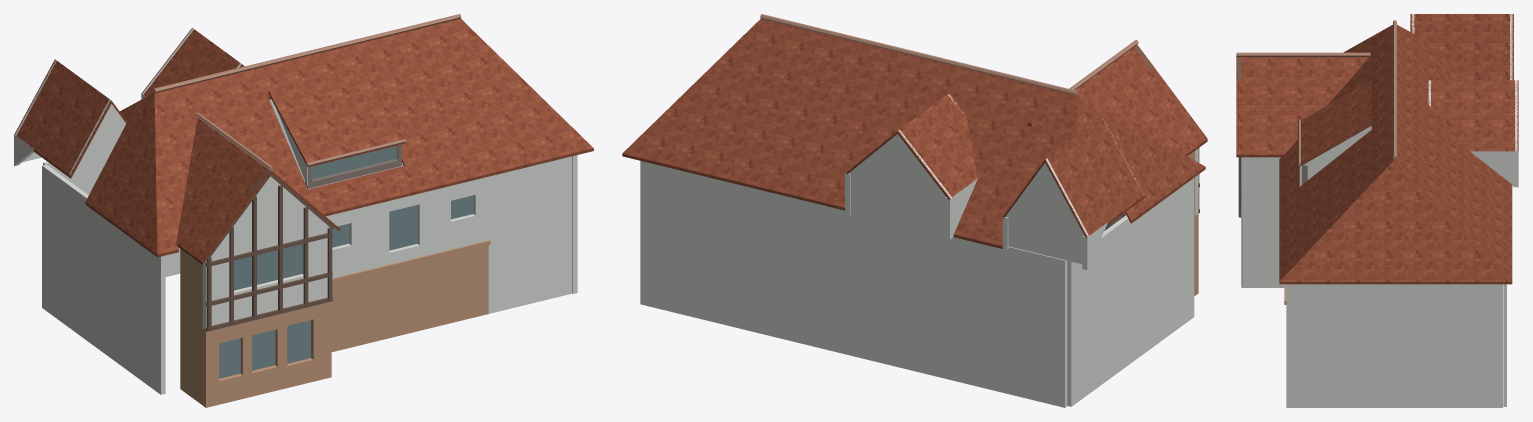
The model's file is changning-xinhua-231-rong-garden-roof-lod.glb.
3 views of the same model, side by side, from view 1: azimuth 30°, elevation 25°; view 2: azimuth 150°, elevation 25°; view 3: azimuth 270°, elevation 25° (orthographic). The views are drawn at different scales.
Parts seen in each view (by area): view 1: 新华路231号住宅花园侧木构山墙与交叉瓦顶; view 2: 新华路231号住宅花园侧木构山墙与交叉瓦顶; view 3: 新华路231号住宅花园侧木构山墙与交叉瓦顶.
Boxes of the visible parts, box(x1,y1,x2,y2) form: 新华路231号住宅花园侧木构山墙与交叉瓦顶: box(14, 14, 593, 407); 新华路231号住宅花园侧木构山墙与交叉瓦顶: box(622, 14, 1207, 407); 新华路231号住宅花园侧木构山墙与交叉瓦顶: box(1236, 14, 1518, 407).
Size of the model in its own units: 20.45 by 10.8 by 12.21.
7 materials, 1 textured.
